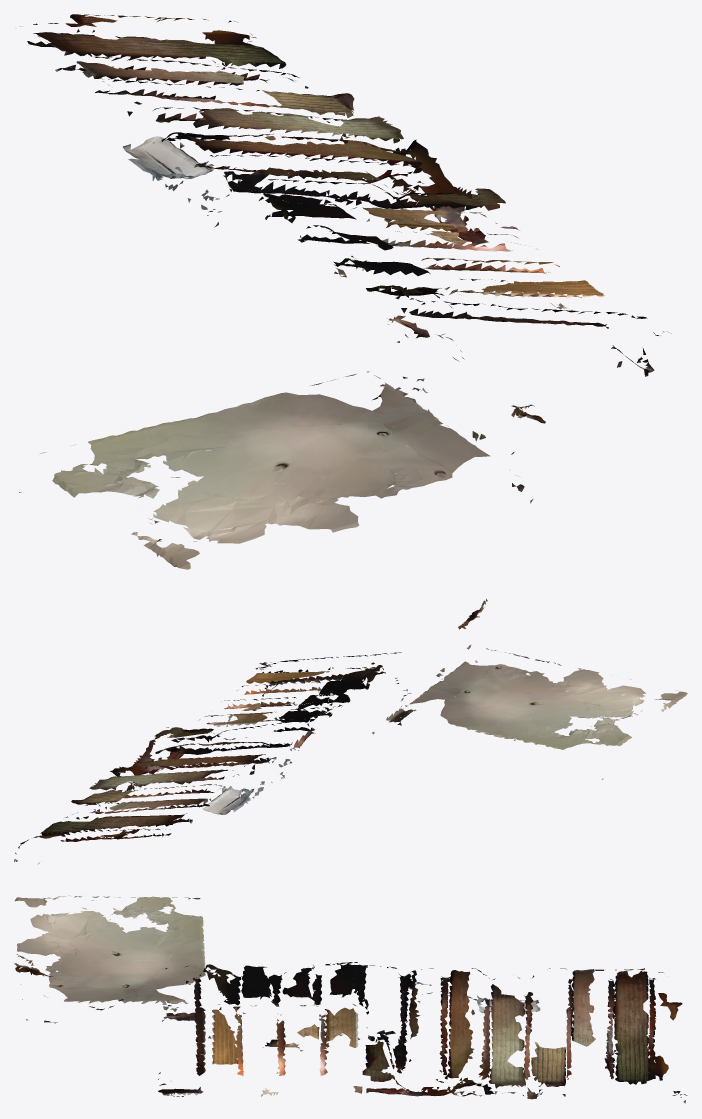
The model's file is esc_alta_techo_06.glb.
3 views of the same model, one above another, from view 1: azimuth 30°, elevation 25°; view 2: azimuth 150°, elevation 25°; view 3: azimuth 270°, elevation 25° (orthographic). The views are drawn at different scales.
Parts seen in each view (by area): view 1: techo_Salon_y_porche_6_GLTF_3, techo_Salon_y_porche_6_GLTF_5, techo_Salon_y_porche_6_GLTF_1, techo_Salon_y_porche_6_GLTF_8, techo_Salon_y_porche_6_GLTF_9, techo_Salon_y_porche_6_GLTF_12, techo_Salon_y_porche_6_GLTF_10, techo_Salon_y_porche_6_GLTF_11, techo_Salon_y_porche_6_GLTF_13, techo_Salon_y_porche_6_GLTF_4, techo_Salon_y_porche_6_GLTF_6, techo_Salon_y_porche_6_GLTF (+2 smaller); view 2: techo_Salon_y_porche_6_GLTF_3, techo_Salon_y_porche_6_GLTF_5, techo_Salon_y_porche_6_GLTF_8, techo_Salon_y_porche_6_GLTF_1, techo_Salon_y_porche_6_GLTF_9, techo_Salon_y_porche_6_GLTF_12, techo_Salon_y_porche_6_GLTF_10, techo_Salon_y_porche_6_GLTF_13, techo_Salon_y_porche_6_GLTF_11, techo_Salon_y_porche_6_GLTF_4, techo_Salon_y_porche_6_GLTF, techo_Salon_y_porche_6_GLTF_6 (+1 smaller); view 3: techo_Salon_y_porche_6_GLTF_9, techo_Salon_y_porche_6_GLTF_3, techo_Salon_y_porche_6_GLTF_8, techo_Salon_y_porche_6_GLTF_5, techo_Salon_y_porche_6_GLTF_1, techo_Salon_y_porche_6_GLTF_12, techo_Salon_y_porche_6_GLTF_10, techo_Salon_y_porche_6_GLTF_4, techo_Salon_y_porche_6_GLTF_13, techo_Salon_y_porche_6_GLTF_11, techo_Salon_y_porche_6_GLTF_6, techo_Salon_y_porche_6_GLTF (+2 smaller).
Boxes of the visible parts, x1,y1,x2,y2 form: techo_Salon_y_porche_6_GLTF_3: [33, 23, 647, 543]; techo_Salon_y_porche_6_GLTF_5: [128, 69, 640, 500]; techo_Salon_y_porche_6_GLTF_1: [88, 86, 645, 459]; techo_Salon_y_porche_6_GLTF_8: [21, 26, 651, 501]; techo_Salon_y_porche_6_GLTF_9: [30, 16, 546, 453]; techo_Salon_y_porche_6_GLTF_12: [27, 29, 576, 491]; techo_Salon_y_porche_6_GLTF_10: [19, 14, 575, 492]; techo_Salon_y_porche_6_GLTF_11: [57, 55, 671, 411]; techo_Salon_y_porche_6_GLTF_13: [127, 60, 624, 503]; techo_Salon_y_porche_6_GLTF_4: [92, 113, 506, 569]; techo_Salon_y_porche_6_GLTF_6: [387, 149, 654, 476]; techo_Salon_y_porche_6_GLTF: [113, 136, 604, 552]; techo_Salon_y_porche_6_GLTF_3: [60, 598, 645, 841]; techo_Salon_y_porche_6_GLTF_5: [73, 652, 572, 819]; techo_Salon_y_porche_6_GLTF_8: [109, 672, 677, 825]; techo_Salon_y_porche_6_GLTF_1: [104, 666, 570, 811]; techo_Salon_y_porche_6_GLTF_9: [20, 667, 442, 845]; techo_Salon_y_porche_6_GLTF_12: [33, 622, 471, 841]; techo_Salon_y_porche_6_GLTF_10: [14, 661, 603, 861]; techo_Salon_y_porche_6_GLTF_13: [38, 660, 530, 863]; techo_Salon_y_porche_6_GLTF_11: [106, 662, 406, 822]; techo_Salon_y_porche_6_GLTF_4: [68, 655, 687, 832]; techo_Salon_y_porche_6_GLTF: [199, 661, 674, 764]; techo_Salon_y_porche_6_GLTF_6: [107, 648, 510, 803]; techo_Salon_y_porche_6_GLTF_9: [172, 897, 654, 1084]; techo_Salon_y_porche_6_GLTF_3: [16, 896, 655, 1076]; techo_Salon_y_porche_6_GLTF_8: [82, 921, 663, 1095]; techo_Salon_y_porche_6_GLTF_5: [45, 943, 613, 1093]; techo_Salon_y_porche_6_GLTF_1: [142, 915, 571, 1096]; techo_Salon_y_porche_6_GLTF_12: [23, 957, 668, 1096]; techo_Salon_y_porche_6_GLTF_10: [49, 962, 687, 1103]; techo_Salon_y_porche_6_GLTF_4: [14, 897, 525, 1086]; techo_Salon_y_porche_6_GLTF_13: [26, 965, 680, 1096]; techo_Salon_y_porche_6_GLTF_11: [162, 969, 614, 1096]; techo_Salon_y_porche_6_GLTF_6: [22, 964, 490, 1096]; techo_Salon_y_porche_6_GLTF: [45, 895, 474, 1064].
Size of the model in its own units: 9.16 by 1.65 by 13.97.
Materials: 14 (14 with a texture image).
